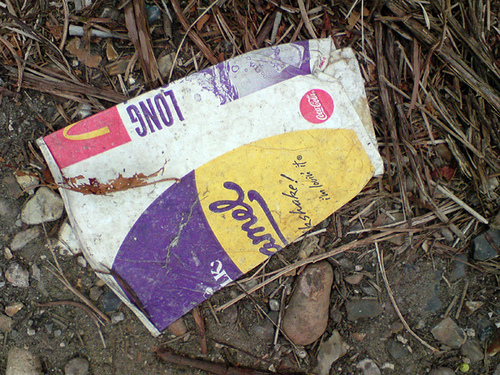litter: (36, 34, 384, 340)
